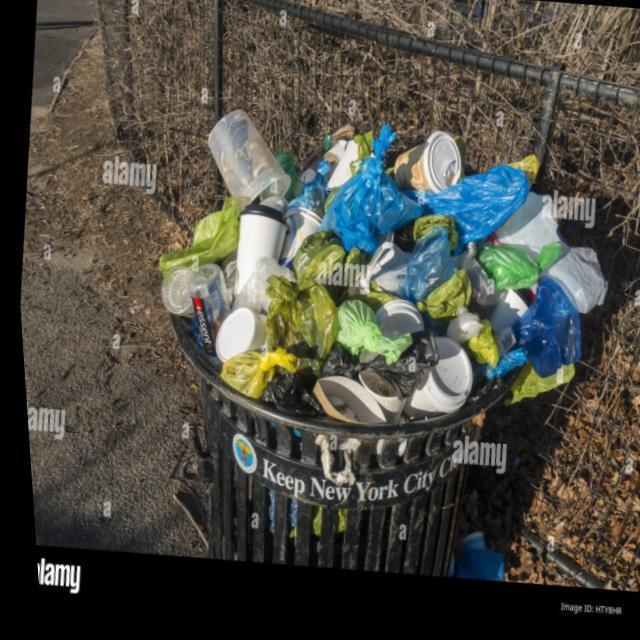Disposable: (205, 112, 287, 209), (398, 340, 467, 421), (230, 205, 283, 295), (391, 135, 462, 196), (274, 209, 318, 272), (210, 310, 261, 364), (370, 302, 418, 339), (485, 294, 522, 337), (156, 267, 188, 316)
Garbage: (155, 112, 601, 427)
Plastic_Bag: (316, 127, 526, 257), (255, 334, 434, 419), (261, 232, 341, 364), (507, 280, 576, 382), (399, 230, 466, 324), (155, 200, 236, 276), (330, 304, 406, 367), (539, 246, 603, 318), (491, 197, 557, 263), (472, 246, 558, 294), (215, 349, 291, 401), (227, 259, 291, 316)
Plastic_bottle: (185, 265, 226, 358)
